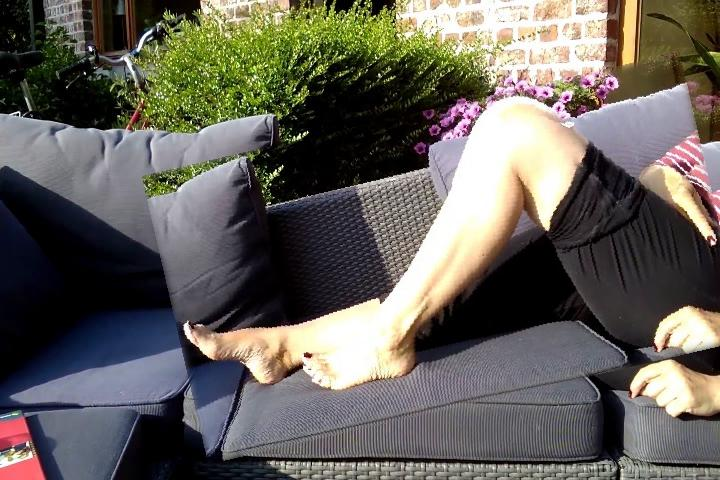lower_body: (156, 82, 720, 435)
